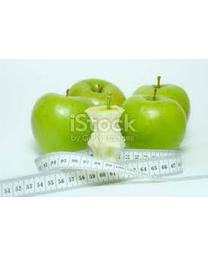apple: (120, 85, 187, 150), (30, 89, 96, 152), (127, 75, 190, 121), (65, 78, 125, 107)
